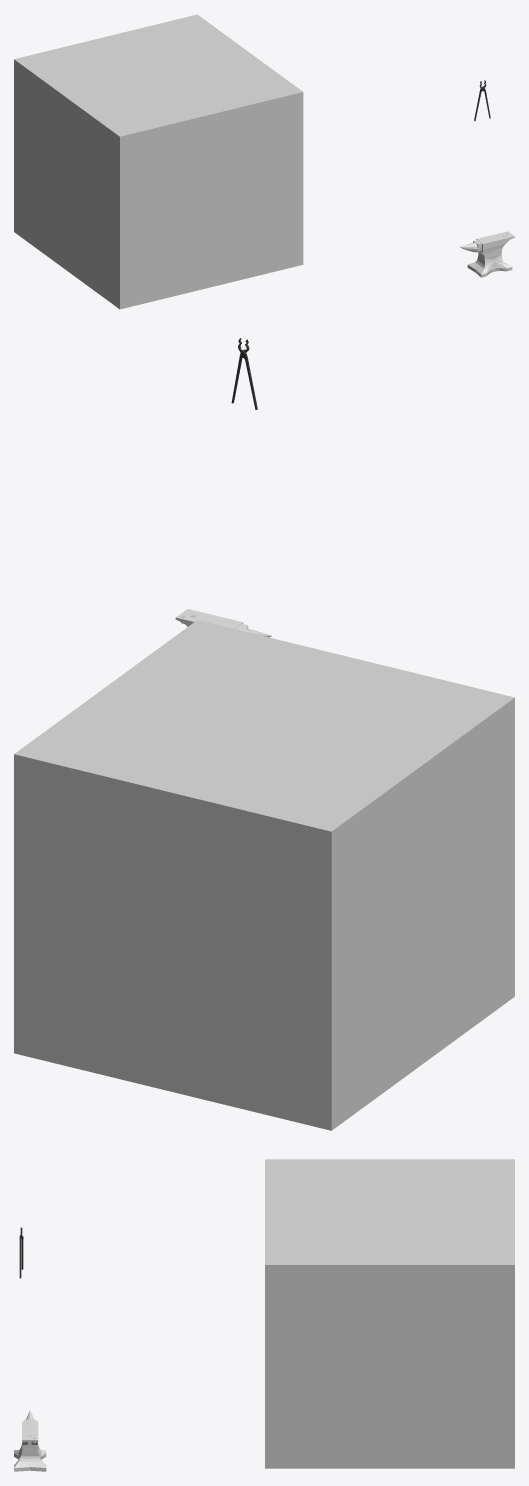
Rendered from pickuptongopen.dae.
3 views of the same model, one above another, from view 1: azimuth 30°, elevation 25°; view 2: azimuth 150°, elevation 25°; view 3: azimuth 270°, elevation 25° (orthographic). The views are drawn at different scales.
Visible parts, largest first — view 1: Cube_004, Cube_002; view 2: Cube_004; view 3: Cube_004, Cube_002.
Part boxes in pixels (left/top/right/bottom): Cube_004: left=14, top=14, right=303, bottom=309; Cube_002: left=459, top=231, right=514, bottom=277; Cube_004: left=14, top=620, right=514, bottom=1130; Cube_004: left=265, top=1159, right=514, bottom=1468; Cube_002: left=14, top=1410, right=46, bottom=1471.
Size of the model in its own units: 3.18 by 4.01 by 2.51.
1 material, 1 textured.
